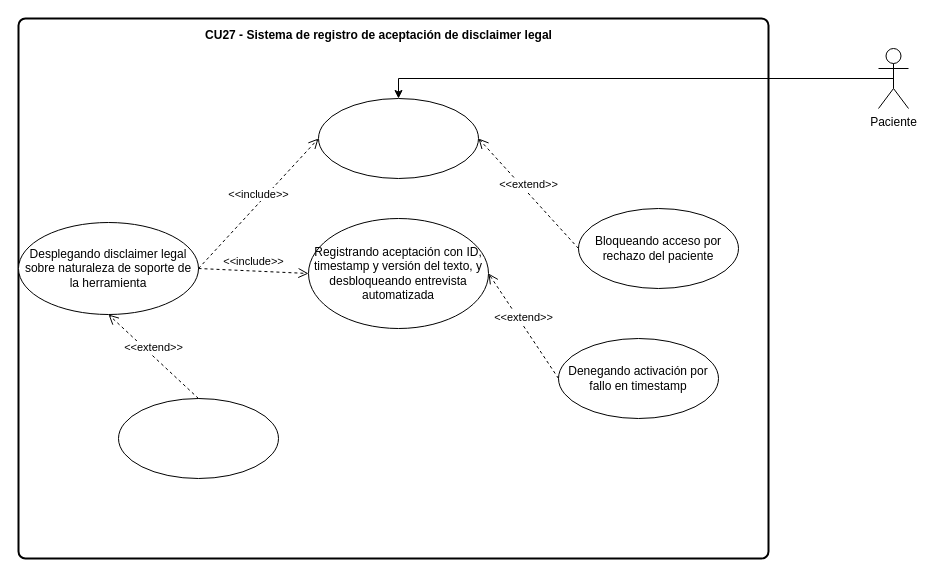
Some shapes in this 934 by 576 pixel diagram are drawn without their labels. The centre of each missing label's shape, as x and y in pixels:
Bloqueando flujo por fallo en carga del texto legal: point (198, 438)
Seleccionando opción de aceptación explícita del descargo: point (398, 138)
